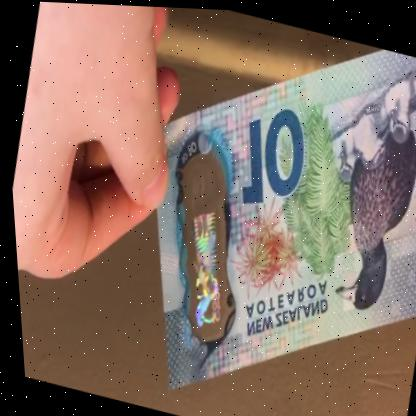10F: (161, 181, 244, 337)
